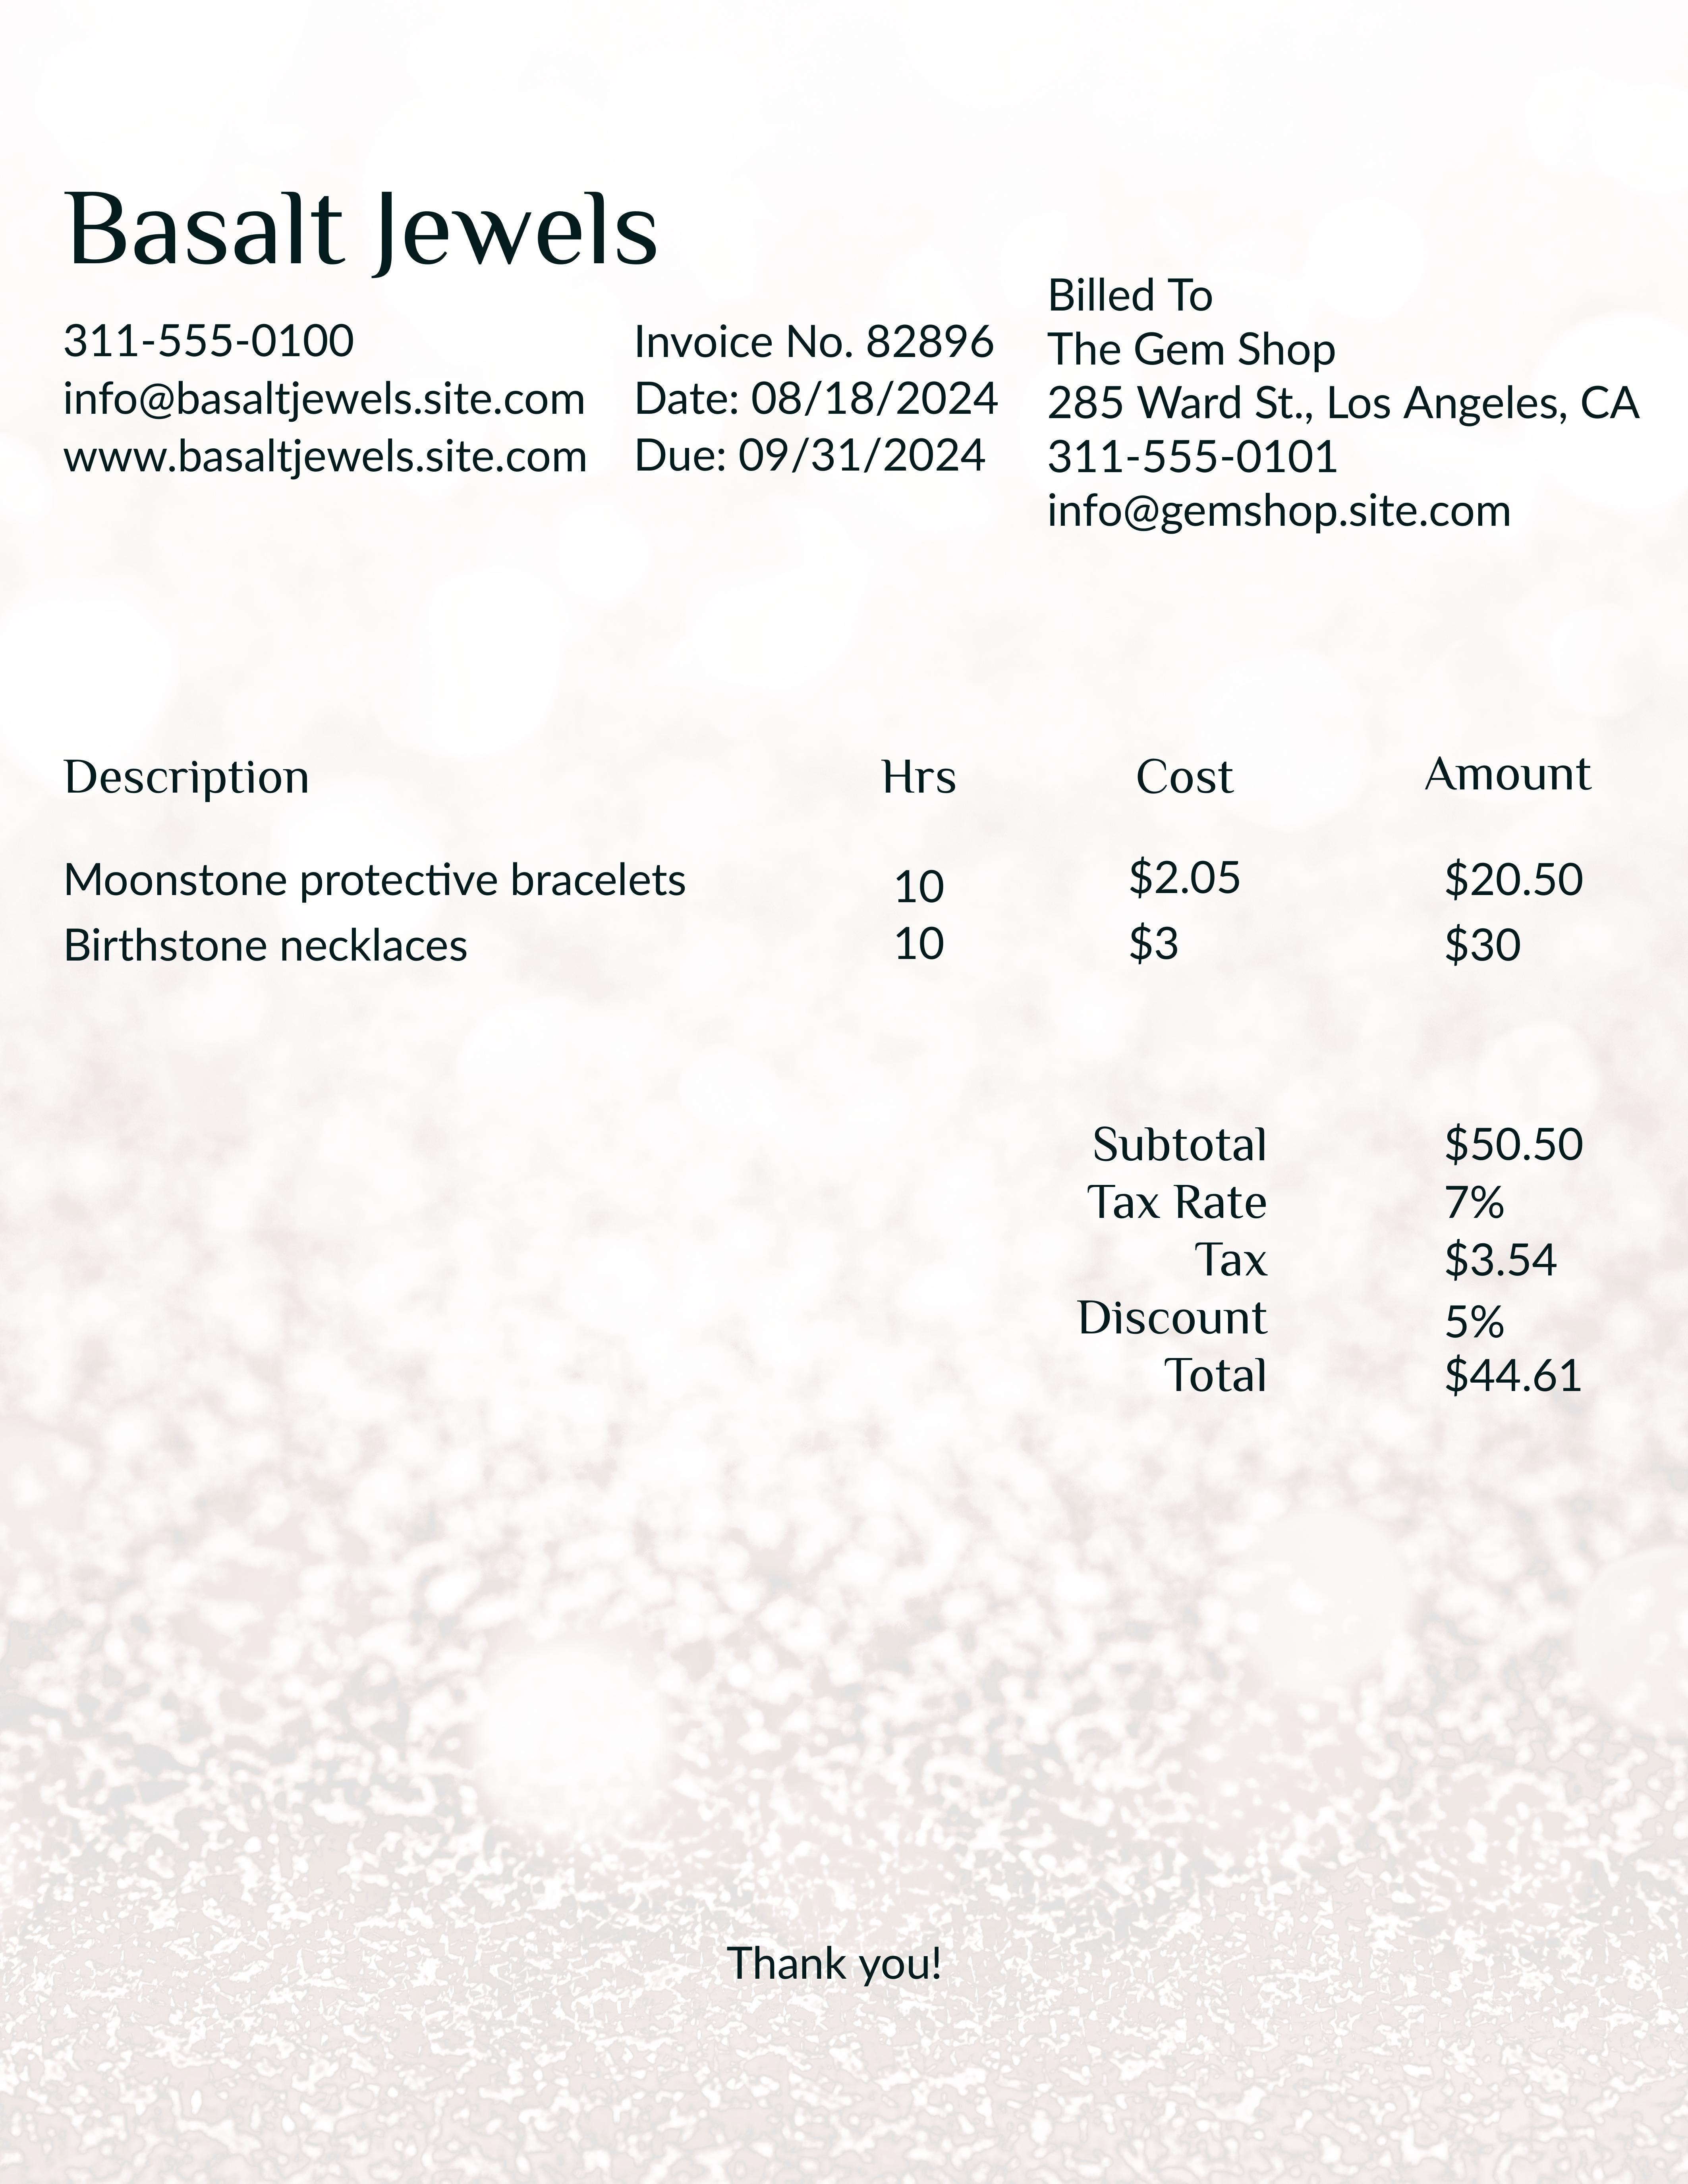ROI: (50, 746, 1617, 982), (1034, 262, 1688, 547), (1055, 1111, 1610, 1412), (619, 304, 1018, 503), (35, 161, 699, 274)
